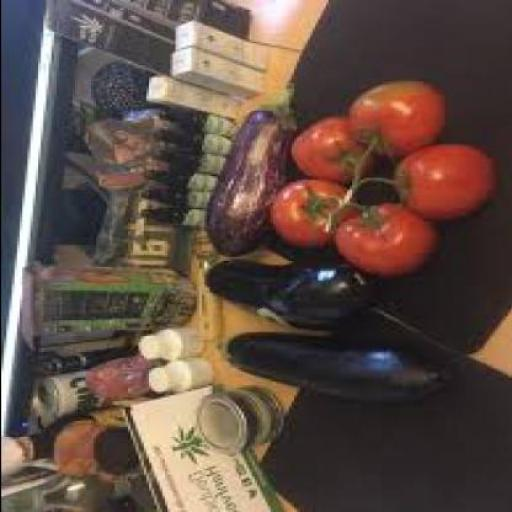biodegradable: (200, 83, 296, 255), (211, 332, 446, 399), (200, 259, 375, 328), (328, 201, 438, 275), (388, 142, 488, 217), (346, 80, 440, 158), (288, 114, 378, 180), (264, 177, 351, 243)
cardboard: (42, 0, 245, 71), (18, 261, 194, 330), (169, 20, 264, 71), (164, 48, 258, 96), (143, 73, 235, 117)
glass: (3, 407, 121, 463), (19, 475, 134, 510), (153, 107, 232, 134), (146, 126, 226, 152), (145, 150, 222, 172), (140, 168, 216, 190), (37, 350, 132, 366), (137, 188, 209, 207), (132, 204, 203, 223)
metal: (190, 385, 274, 447)
paper: (116, 387, 282, 510)
